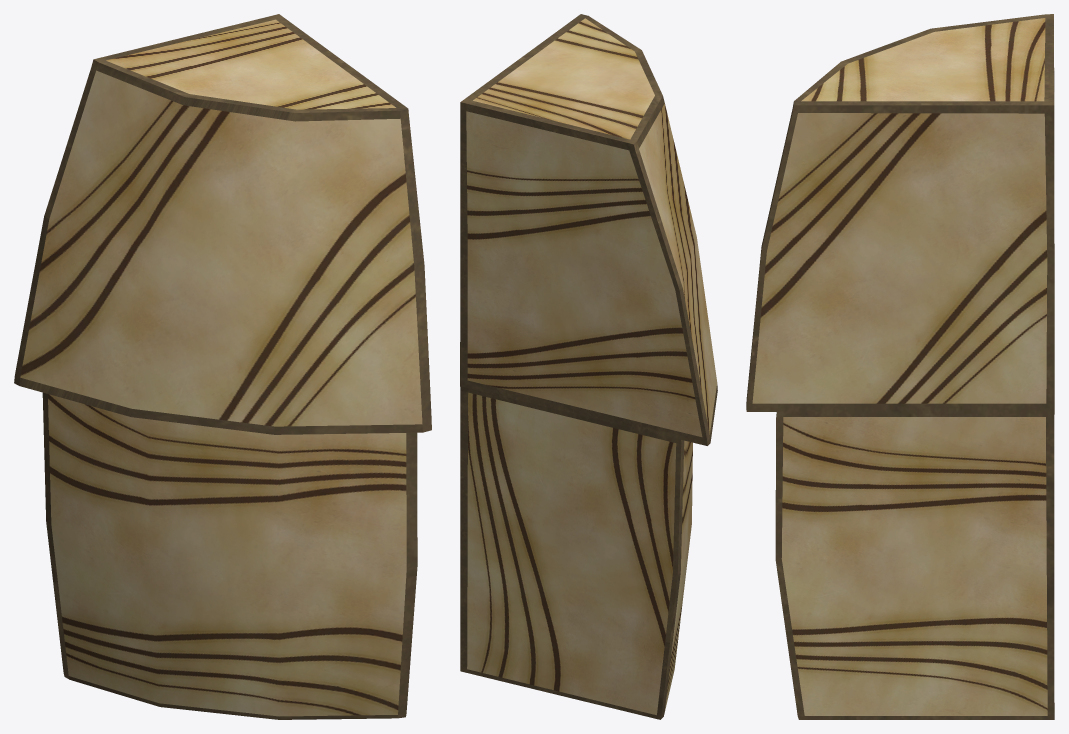
The model's file is nt_2020_light_sculpture_LOD1.obj.
The picture shows the model from 3 angles, left to right: view 1: azimuth 30°, elevation 25°; view 2: azimuth 150°, elevation 25°; view 3: azimuth 270°, elevation 25°; orthographic projection. The views are drawn at different scales.
Visible parts, largest first — view 1: mtl_p6_light_karma_sculpture, dub_gold_shiny_01; view 2: mtl_p6_light_karma_sculpture, dub_gold_shiny_01; view 3: mtl_p6_light_karma_sculpture, dub_gold_shiny_01.
Part boxes in pixels (bbox=[...]): mtl_p6_light_karma_sculpture: bbox=[20, 19, 422, 716]; dub_gold_shiny_01: bbox=[14, 14, 431, 719]; mtl_p6_light_karma_sculpture: bbox=[466, 18, 717, 715]; dub_gold_shiny_01: bbox=[460, 14, 717, 719]; mtl_p6_light_karma_sculpture: bbox=[752, 18, 1054, 715]; dub_gold_shiny_01: bbox=[746, 14, 1054, 719].
Bounding box in the file's own units: 102 × 224 × 102.
